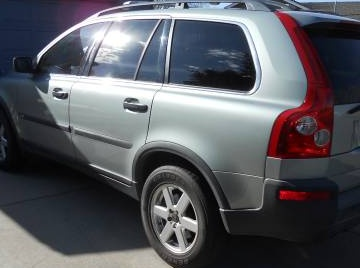volvo: (1, 1, 360, 265)
